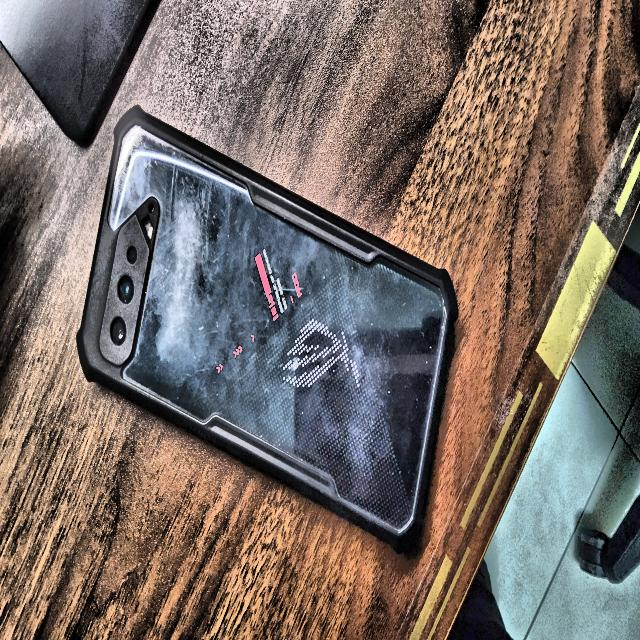PHONE: (77, 109, 457, 547)
